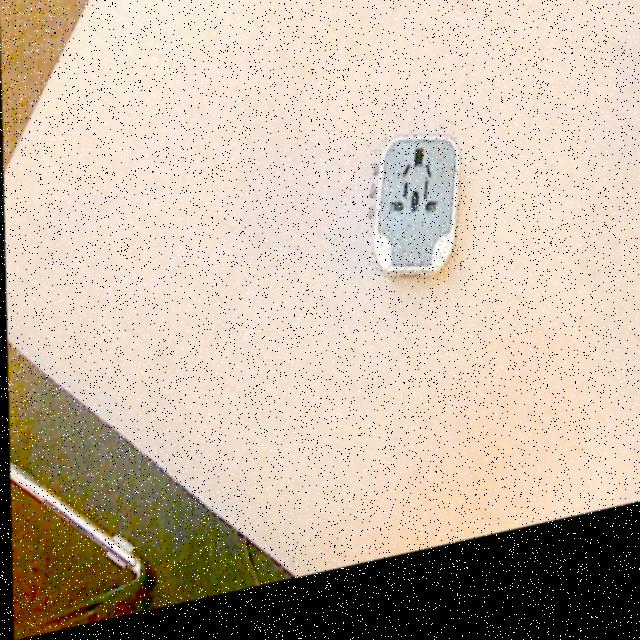adapter: (364, 140, 460, 305)
